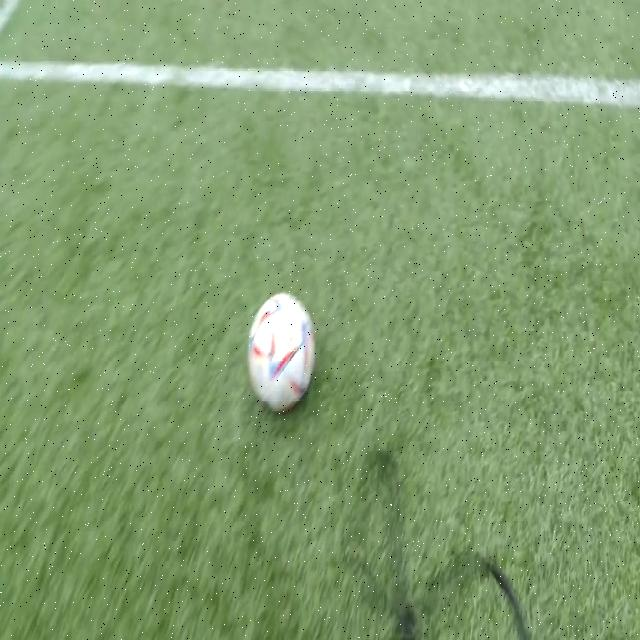ball: (248, 292, 316, 414)
